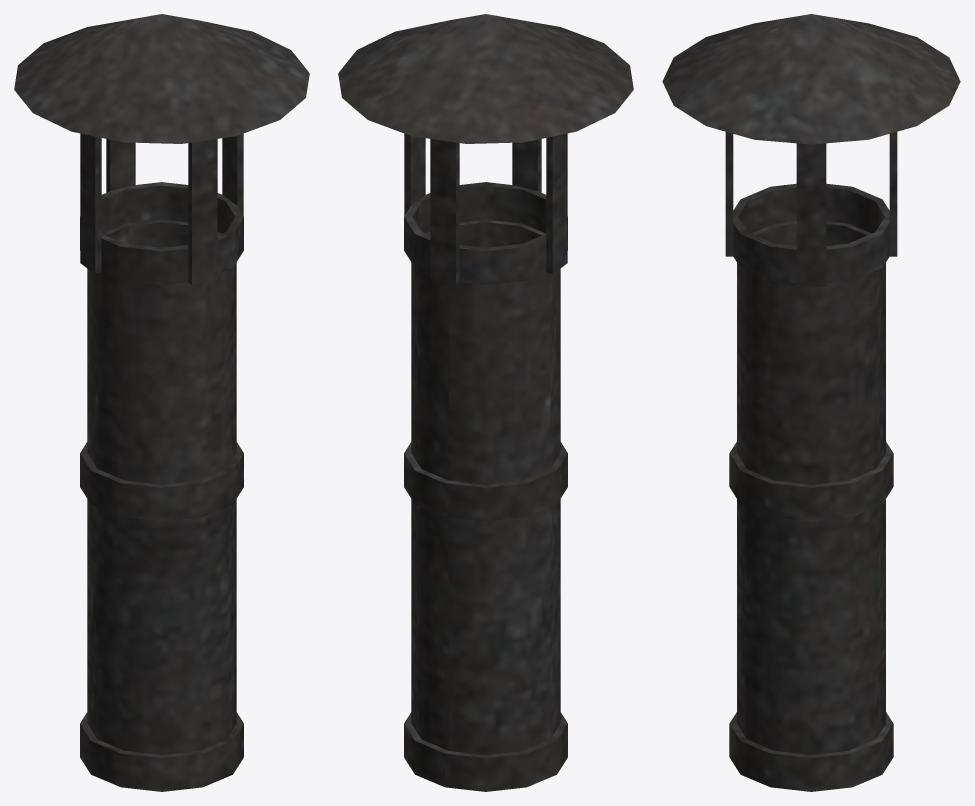
The model's file is chimney_a_1.obj.
3 views of the same model, side by side, from view 1: azimuth 30°, elevation 25°; view 2: azimuth 150°, elevation 25°; view 3: azimuth 270°, elevation 25° (orthographic).
Visible parts, largest first — view 1: chimney_a_1; view 2: chimney_a_1; view 3: chimney_a_1.
Part boxes in pixels (bbox=[...]): chimney_a_1: bbox=[14, 14, 309, 791]; chimney_a_1: bbox=[338, 14, 633, 791]; chimney_a_1: bbox=[662, 14, 960, 791].
Size of the model in its own units: 0.4 by 1.1 by 0.4.
